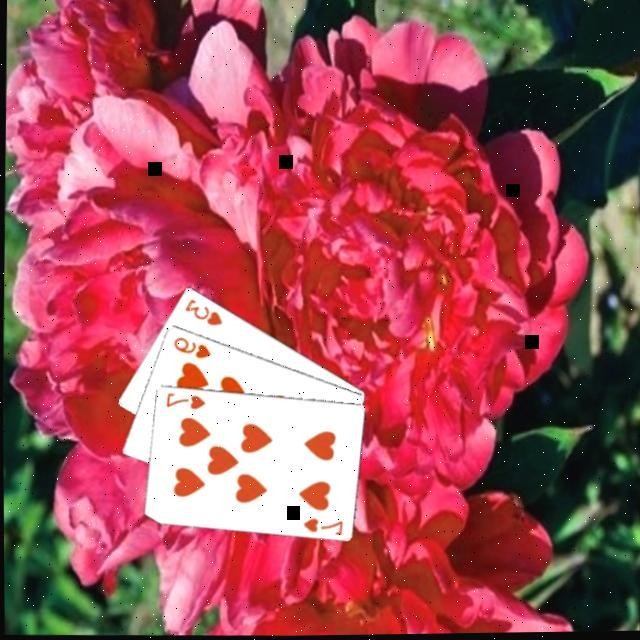3H: (178, 293, 223, 329)
7H: (160, 388, 206, 412), (298, 513, 342, 538)
9H: (168, 332, 210, 360)
